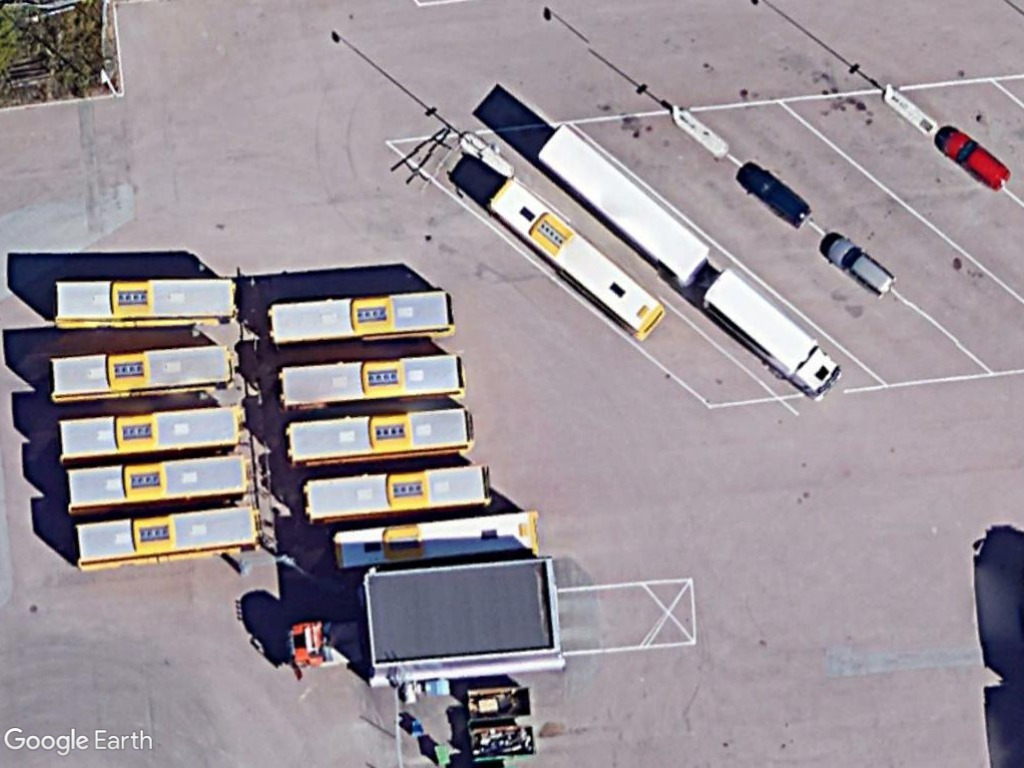bus: (483, 176, 672, 346), (72, 498, 263, 578), (327, 506, 547, 575), (49, 395, 245, 469), (64, 450, 256, 522), (281, 401, 478, 470), (298, 462, 495, 531), (43, 338, 240, 405), (264, 287, 457, 352), (275, 351, 471, 415), (51, 277, 244, 333)
car: (823, 231, 898, 303), (935, 125, 1014, 191), (744, 166, 814, 230)
truck: (699, 266, 847, 405)
